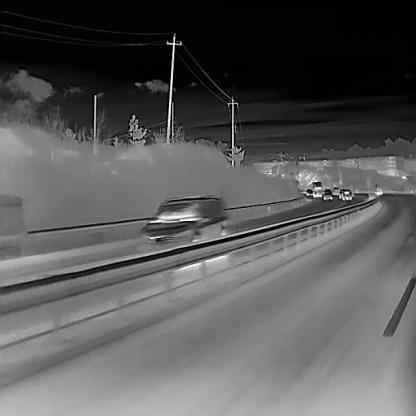car: (136, 194, 229, 252), (311, 181, 323, 198), (322, 188, 333, 201), (341, 189, 352, 201), (373, 183, 383, 196), (338, 188, 347, 198), (331, 186, 340, 195), (304, 188, 313, 196)
